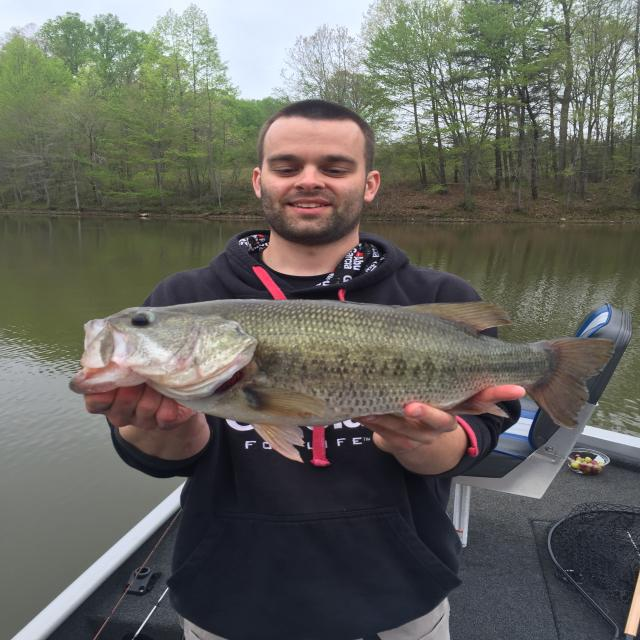Bass - Largemouth: (70, 300, 613, 462)
